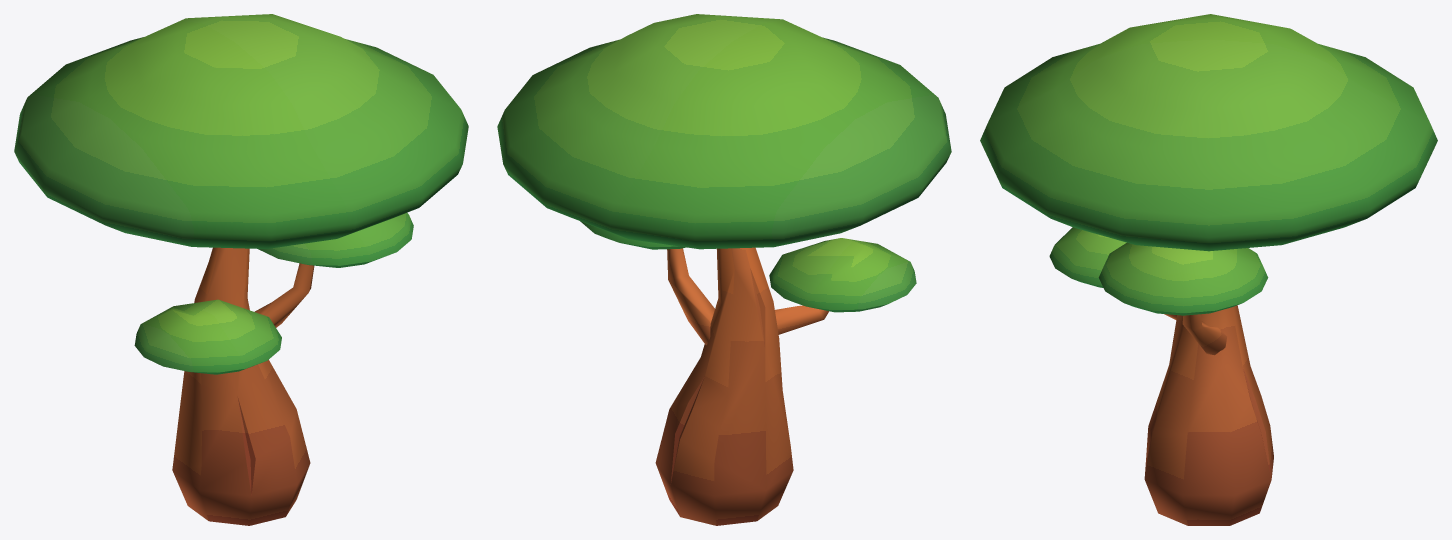
The model's file is Tree_3_A_Color1.glb.
3 renders of one model, left to right at view 1: azimuth 30°, elevation 25°; view 2: azimuth 150°, elevation 25°; view 3: azimuth 270°, elevation 25°, orthographic.
Visible parts, largest first — view 1: Tree_3_A_Color1; view 2: Tree_3_A_Color1; view 3: Tree_3_A_Color1.
Boxes of the visible parts, x1,y1,x2,y2 form: Tree_3_A_Color1: [14, 14, 468, 525]; Tree_3_A_Color1: [497, 14, 951, 525]; Tree_3_A_Color1: [980, 14, 1437, 525].
Size of the model in its own units: 3.09 by 3.51 by 3.09.
Materials: 1 (1 with a texture image).
